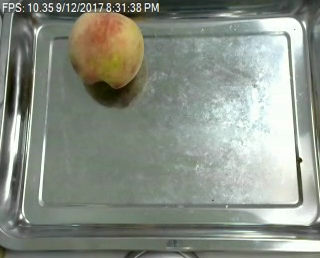Peach: (68, 7, 145, 90)
